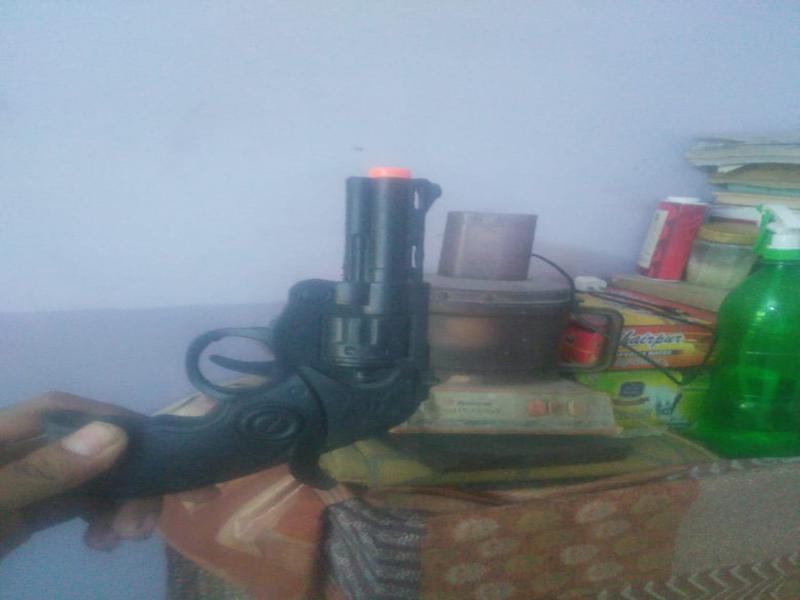gun: (137, 157, 450, 500)
